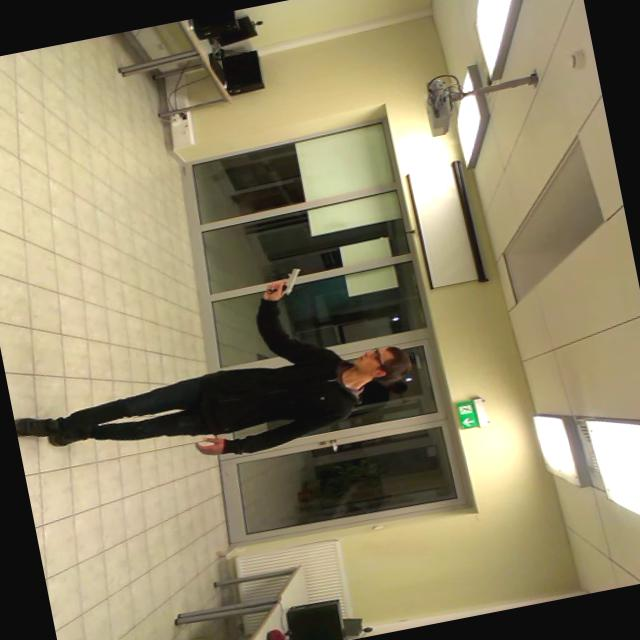handgun: (258, 260, 312, 308)
